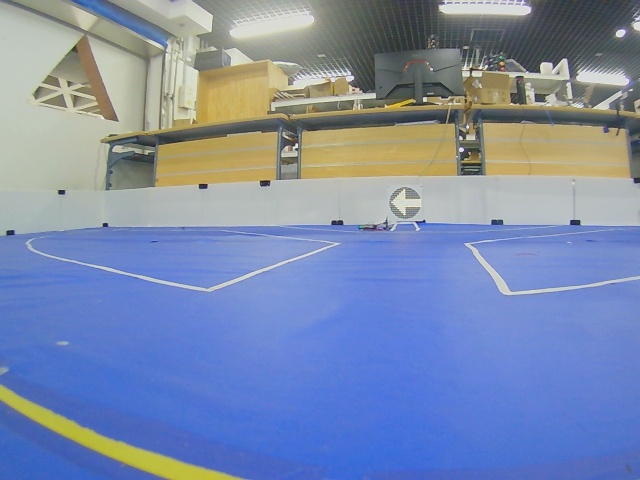left_yellow: (390, 187, 422, 220)
